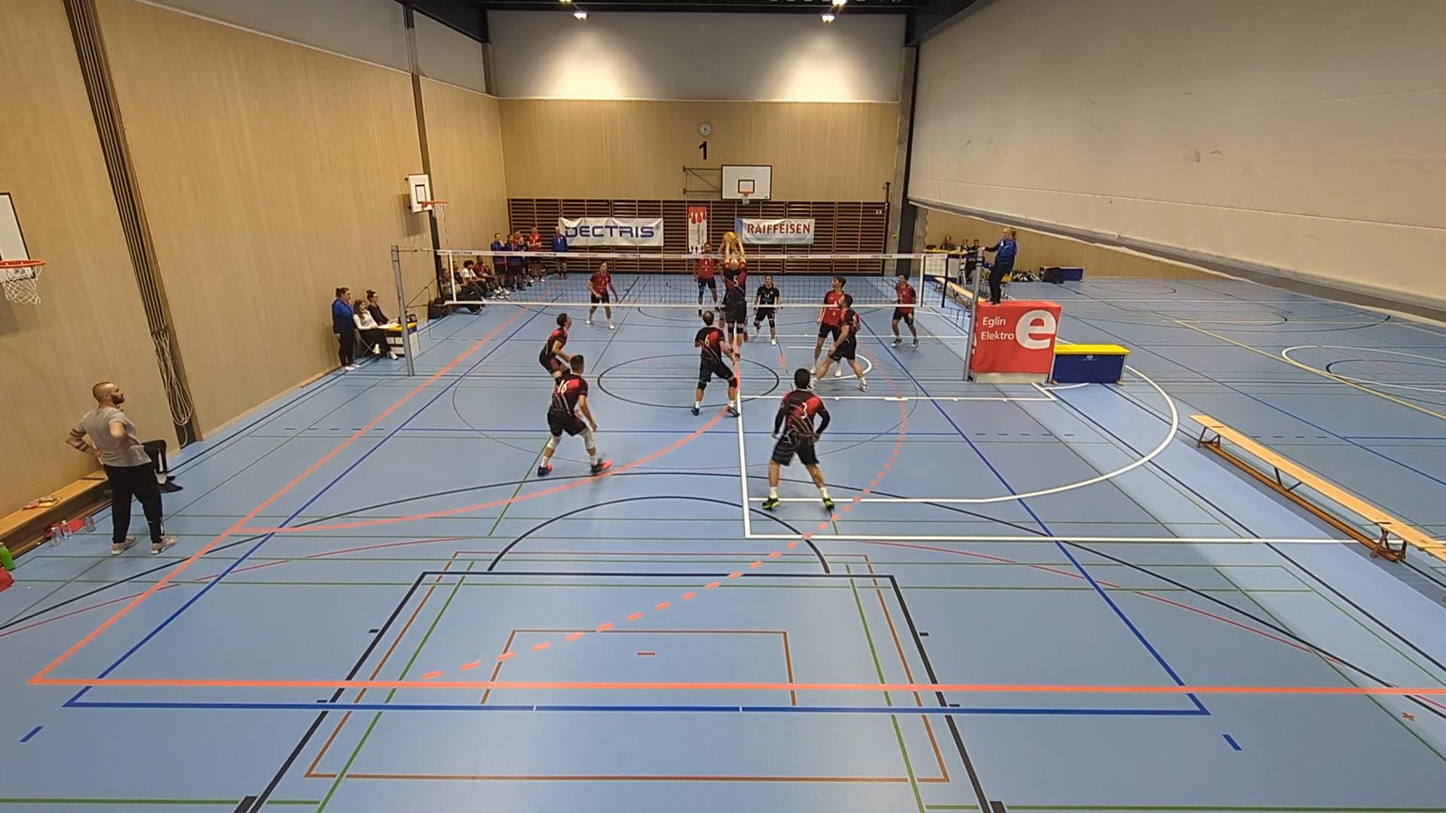Block: (722, 240, 748, 358)
Player: (763, 368, 834, 510), (538, 355, 610, 476), (691, 311, 738, 416), (817, 294, 867, 390), (813, 276, 844, 367), (586, 261, 620, 329), (539, 313, 571, 377), (892, 271, 918, 347), (754, 275, 779, 345), (694, 243, 718, 314)
ball: (723, 231, 739, 240)
